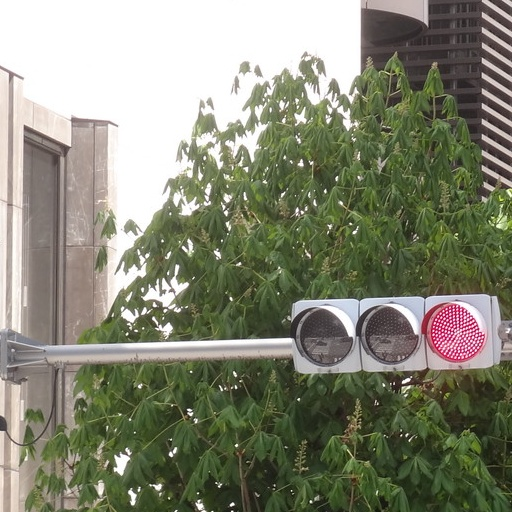Traffic_Signal_Red: (292, 290, 497, 372)
